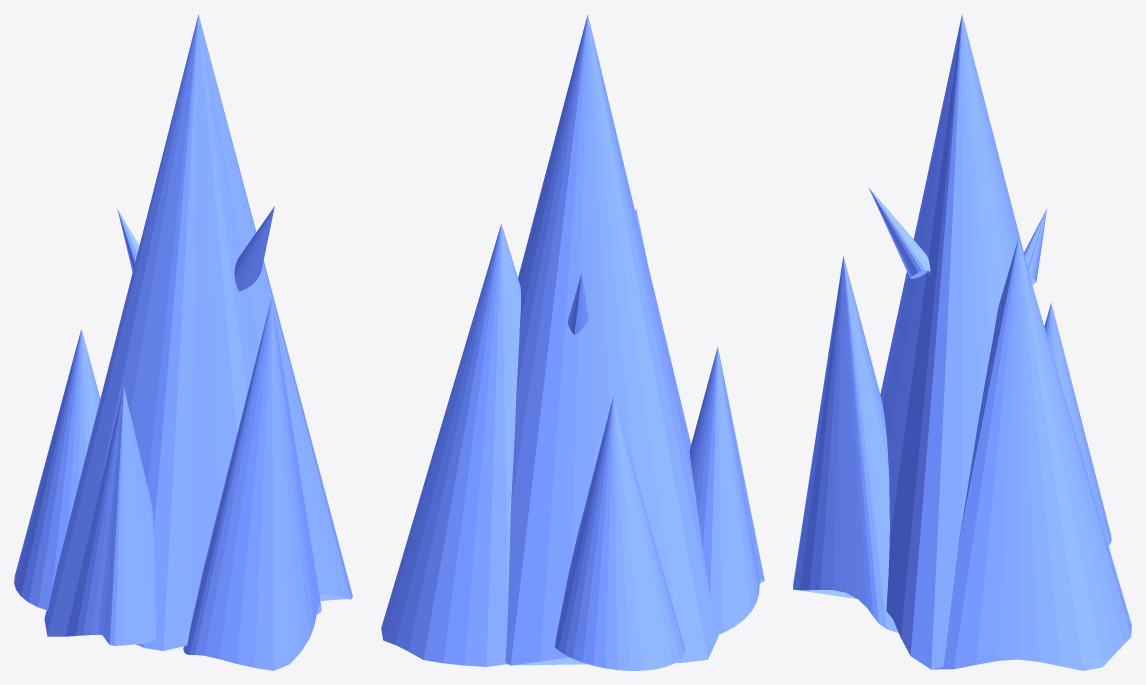
The model's file is glace.fbx.
3 renders of one model, left to right at view 1: azimuth 30°, elevation 25°; view 2: azimuth 150°, elevation 25°; view 3: azimuth 270°, elevation 25°, orthographic. The views are drawn at different scales.
Parts seen in each view (by area): view 1: Cone; view 2: Cone; view 3: Cone.
Boxes of the visible parts, bbox=[...] form: Cone: bbox=[14, 14, 352, 670]; Cone: bbox=[381, 14, 764, 670]; Cone: bbox=[793, 14, 1131, 670].
Size of the model in its own units: 45.6 by 89.29 by 46.28.
